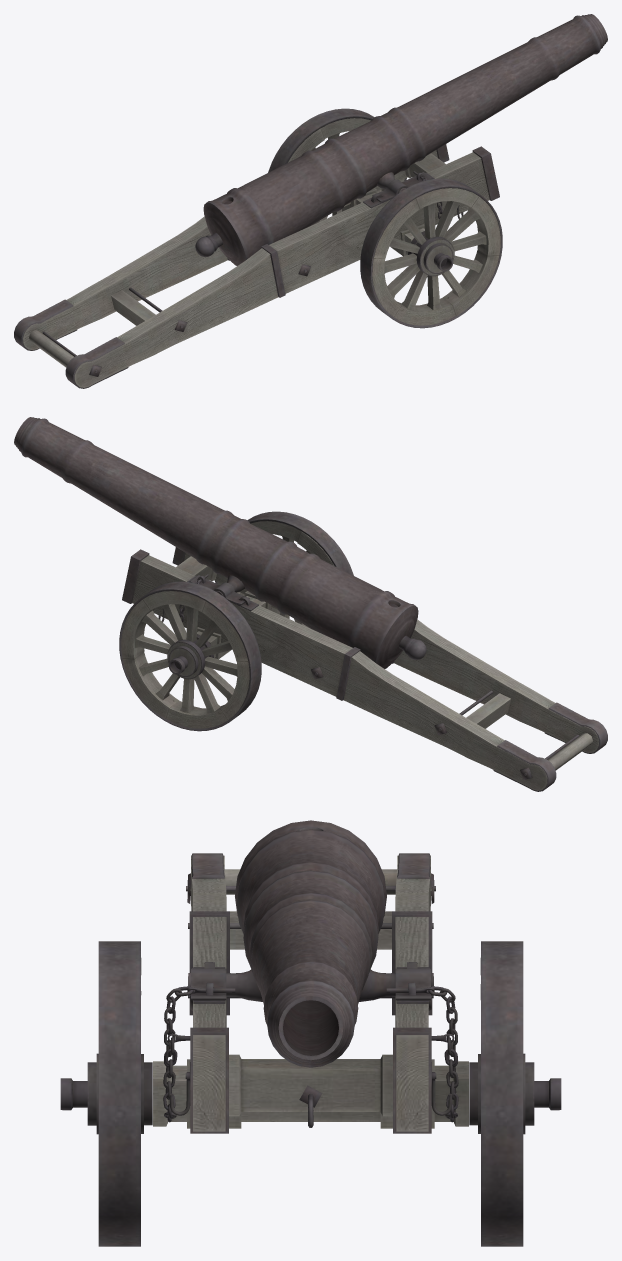
File: hongipo.glb
3 views of the same model, one above another, from view 1: azimuth 30°, elevation 25°; view 2: azimuth 150°, elevation 25°; view 3: azimuth 270°, elevation 25° (orthographic). The views are drawn at different scales.
Visible parts, largest first — view 1: Object_4; view 2: Object_4; view 3: Object_4.
Part boxes in pixels (x1,y1,x2,y2): Object_4: (14,14,607,388); Object_4: (14,417,607,791); Object_4: (60,820,561,1246).
Size of the model in its own units: 4.13 by 1.56 by 1.6.
1 material, 1 textured.
